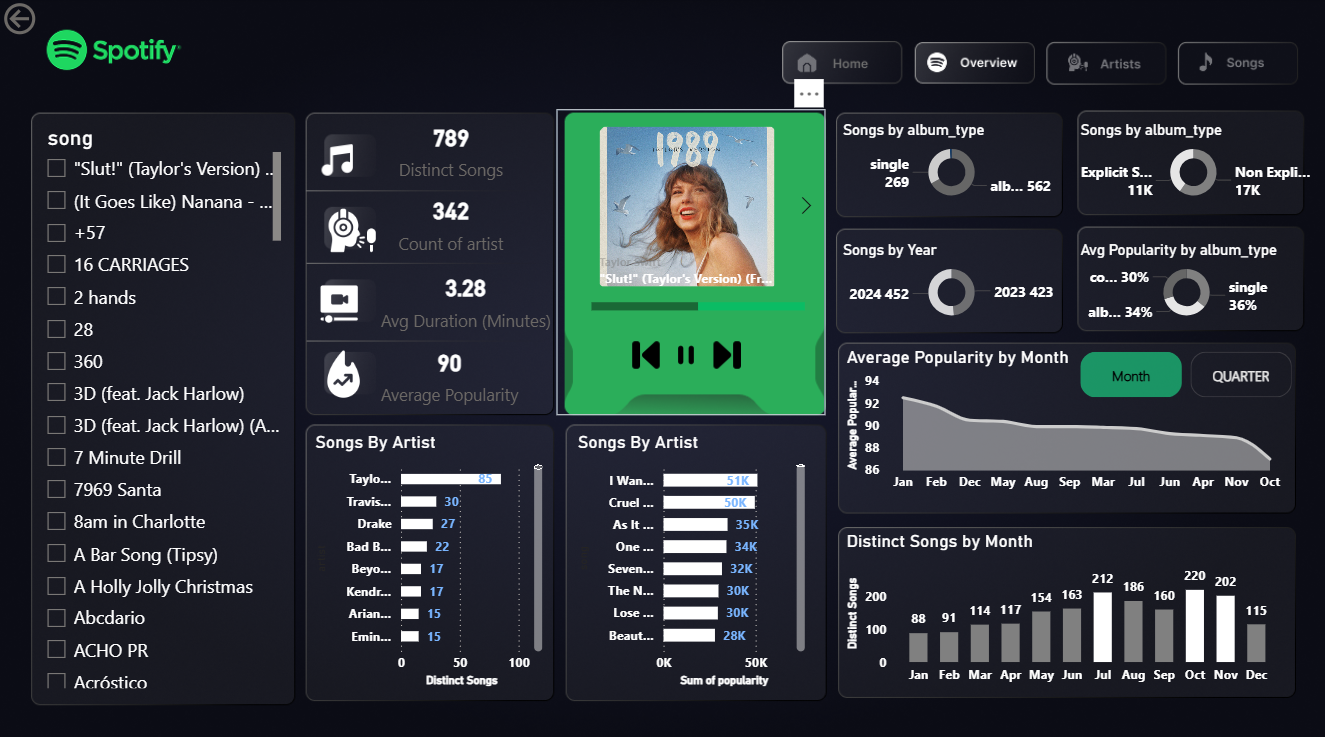

This screenshot's page, from the dashboard's own definition file:
{"tool":"powerbi","page":{"name":"Overview","canvas":[1280,720],"ordinal":1},"visuals":[{"type":"clusteredBarChart","title":" Songs By Artist","fields":{"Y":["_Measures.Distinct Songs"],"Category":["Top-50-World.artist"]},"box":[300.6,419.1,229.3,251],"z":0},{"type":"clusteredBarChart","title":" Songs By Artist","fields":{"Y":["Sum(Top-50-World.popularity)"],"Category":["Top-50-World.song"]},"box":[554.1,419.1,229.3,251],"z":1000},{"type":"areaChart","fields":{"Category":["Top-50-World.Month"],"Y":["_Measures.Average Popularity"]},"box":[813.6,336.1,431.6,148.7],"z":2000},{"type":"advancedSlicerVisual","fields":{"Values":["Slicer_Option.Slicer_Option"]},"box":[1038.5,336.1,215.2,54.4],"z":3000},{"type":"donutChart","title":" Songs by album_type","fields":{"Category":["Top-50-World.album_type"],"Y":["_Measures.Distinct Songs"]},"box":[810,118.5,220,83.4],"z":4000},{"type":"donutChart","title":" Songs by album_type","fields":{"Y":["_Measures.Non Explicit Songs Count","_Measures.Explicit Songs Count"]},"box":[1038.5,118.5,228.5,83.4],"z":5000},{"type":"donutChart","title":" Songs by Year","fields":{"Y":["_Measures.Distinct Songs"],"Category":["Top-50-World.date.Variation.Date Hierarchy.Year"]},"box":[810,234.5,220,83.4],"z":6000},{"type":"donutChart","title":"Avg Popularity by album_type","fields":{"Category":["Top-50-World.album_type"],"Y":["_Measures.Average Popularity"]},"box":[1038.5,234.5,215.2,83.4],"z":7000},{"type":"clusteredColumnChart","fields":{"Category":["Top-50-World.Month"],"Y":["_Measures.Distinct Songs"]},"box":[813.6,513.8,426.7,157.2],"z":8000},{"type":"card","fields":{"Values":["_Measures.Distinct Songs"]},"box":[340.9,110,189.8,71.3],"z":9000},{"type":"card","fields":{"Values":["Count(Top-50-World.artist)"]},"box":[340.9,181.3,189.8,71.3],"z":10000},{"type":"actionButton","box":[0,0,100,40],"z":11000},{"type":"card","fields":{"Values":["_Measures.Average Duration (Minutes)"]},"box":[355.9,254.6,189.4,72.4],"z":12000},{"type":"card","fields":{"Values":["_Measures.Average Popularity"]},"box":[340.2,326.9,189.4,71.2],"z":13000},{"type":"advancedSlicerVisual","title":"Song And Artist","fields":{"Values":["Top-50-World.song"]},"box":[533.2,97.7,261.8,207.5],"z":14000},{"type":"hundredPercentStackedBarChart","fields":{"Y":["_Measures.Average Popularity","Avg(Top-50-World.popularity)"]},"box":[566.7,262.2,215.9,65.5],"z":15000},{"type":"image","box":[604.2,329.5,40,30],"z":16000},{"type":"image","box":[682.8,329.4,39.8,30.2],"z":17000},{"type":"image","box":[643,329.4,39.8,30.2],"z":18000},{"type":"shape","box":[538.1,107.4,259.4,295.6],"z":19000},{"type":"image","box":[311.3,131.5,30.2,49.5],"z":20000},{"type":"image","box":[312.5,201.5,56.7,45.8],"z":21000},{"type":"image","box":[300.4,273.9,55.5,43.4],"z":22000},{"type":"image","box":[311.3,340.2,56.7,45.8],"z":23000},{"type":"actionButton","box":[173.7,398.1,112.2,39.8],"z":24000},{"type":"actionButton","box":[302.8,398.1,118.2,39.8],"z":25000},{"type":"actionButton","box":[429.5,398.1,118.2,39.8],"z":26000},{"type":"actionButton","box":[558.6,398.1,118.2,39.8],"z":27000},{"type":"actionButton","box":[183.7,408.1,112.2,39.8],"z":28000},{"type":"actionButton","box":[312.8,408.1,118.2,39.8],"z":29000},{"type":"actionButton","box":[439.5,408.1,118.2,39.8],"z":30000},{"type":"actionButton","box":[754,39.8,118.2,42.2],"z":31000},{"type":"actionButton","box":[883.1,39.8,118.2,42.2],"z":32000},{"type":"actionButton","box":[1012.2,39.8,118.2,42.2],"z":33000},{"type":"actionButton","box":[1135.3,39.8,118.2,42.2],"z":34000},{"type":"slicer","fields":{"Values":["Top-50-World.song"]},"box":[33.4,118.7,243.7,552.9],"z":35000}]}

Visuals, with their boxes on the page's 1280x720 design canvas (x1, y1, x2, y2). These are canvas units, not pixel positions in the 1325x737 screenshot, which may show the page scaled, cropped or inside an application window:
" Songs By Artist" clusteredBarChart: 301:419:530:670
" Songs By Artist" clusteredBarChart: 554:419:783:670
areaChart - Top-50-World.Month x _Measures.Average Popularity: 814:336:1245:485
advancedSlicerVisual - Slicer_Option.Slicer_Option: 1038:336:1254:390
" Songs by album_type" donutChart: 810:118:1030:202
" Songs by album_type" donutChart: 1038:118:1267:202
" Songs by Year" donutChart: 810:234:1030:318
"Avg Popularity by album_type" donutChart: 1038:234:1254:318
clusteredColumnChart - Top-50-World.Month x _Measures.Distinct Songs: 814:514:1240:671
card - _Measures.Distinct Songs: 341:110:531:181
card - Count(Top-50-World.artist): 341:181:531:253
actionButton: 0:0:100:40
card - _Measures.Average Duration (Minutes): 356:255:545:327
card - _Measures.Average Popularity: 340:327:530:398
"Song And Artist" advancedSlicerVisual: 533:98:795:305
hundredPercentStackedBarChart - _Measures.Average Popularity x Avg(Top-50-World.popularity): 567:262:783:328
image: 604:330:644:360
image: 683:329:723:360
image: 643:329:683:360
shape: 538:107:798:403
image: 311:132:342:181
image: 312:202:369:247
image: 300:274:356:317
image: 311:340:368:386
actionButton: 174:398:286:438
actionButton: 303:398:421:438
actionButton: 430:398:548:438
actionButton: 559:398:677:438
actionButton: 184:408:296:448
actionButton: 313:408:431:448
actionButton: 440:408:558:448
actionButton: 754:40:872:82
actionButton: 883:40:1001:82
actionButton: 1012:40:1130:82
actionButton: 1135:40:1254:82
slicer - Top-50-World.song: 33:119:277:672
